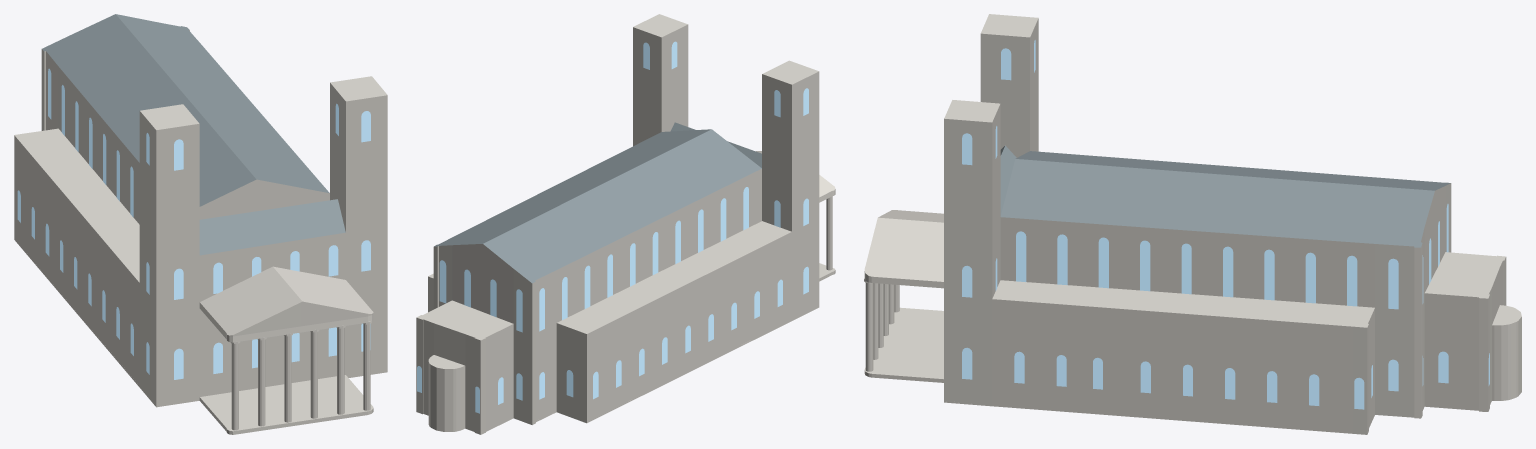
The model's file is detail.glb.
The picture shows the model from 3 angles, left to right: view 1: azimuth 30°, elevation 25°; view 2: azimuth 150°, elevation 25°; view 3: azimuth 270°, elevation 25°; orthographic projection. The views are drawn at different scales.
Parts seen in each view (by area): view 1: stone, roof, window, trim; view 2: stone, roof, window; view 3: stone, roof, window.
Boxes of the visible parts, box(x1,y1,x2,y2) form: stone: box(14, 30, 387, 434); roof: box(42, 14, 345, 255); window: box(17, 68, 370, 379); trim: box(199, 302, 373, 343); stone: box(416, 14, 835, 434); roof: box(434, 122, 761, 283); window: box(417, 41, 808, 413); stone: box(864, 14, 1521, 434); roof: box(1000, 145, 1450, 247); window: box(962, 40, 1489, 409).
Bounding box in the file's own units: 46.64 × 45 × 94.52.
